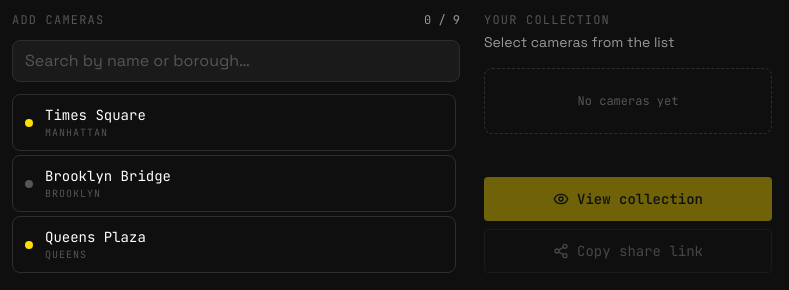
CollectionBuilder › filters the camera list by query
In the search field with placeholder "Search by name or borough…": (236, 61) [12, 40, 460, 82], type "queens"
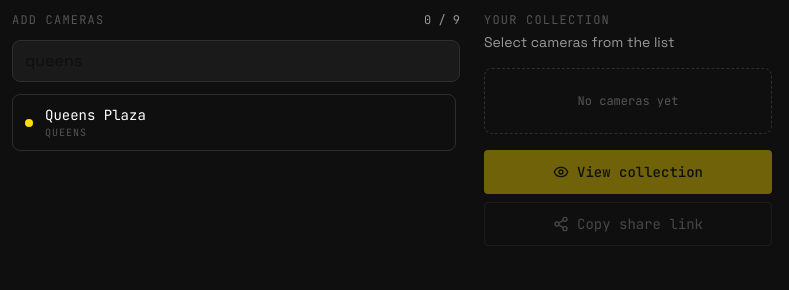
Expected: the text "Queens Plaza" is shown, [45, 106, 146, 124]
Expected: the button "Times Square" is gone
